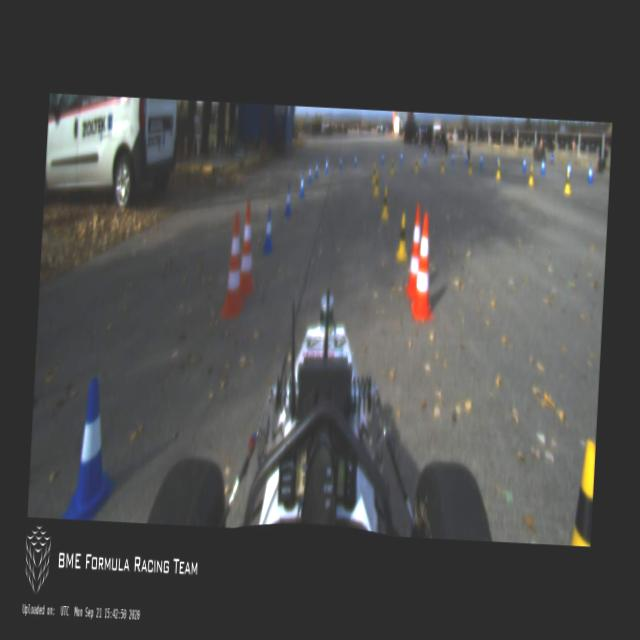blue_cone: (62, 376, 119, 521), (263, 209, 275, 254), (284, 184, 294, 218), (299, 172, 305, 198), (587, 162, 594, 184), (307, 164, 313, 186), (566, 160, 572, 180), (314, 159, 320, 178), (522, 155, 528, 172), (339, 154, 344, 170), (325, 155, 329, 174), (541, 158, 545, 175), (354, 154, 358, 168), (381, 152, 385, 165), (400, 150, 403, 163), (480, 154, 483, 167), (424, 152, 427, 164), (452, 152, 455, 164), (497, 155, 500, 167), (466, 154, 468, 164)
large_orange_cone: (218, 212, 250, 321), (409, 212, 439, 322), (238, 202, 260, 300), (404, 206, 422, 300)
yellow_cone: (570, 438, 596, 546), (396, 212, 410, 261), (380, 188, 390, 221), (372, 172, 380, 197), (564, 172, 572, 195), (528, 162, 535, 186), (371, 162, 377, 185), (496, 161, 502, 179), (440, 157, 446, 173), (414, 156, 420, 172), (468, 157, 473, 175), (390, 158, 394, 176)
